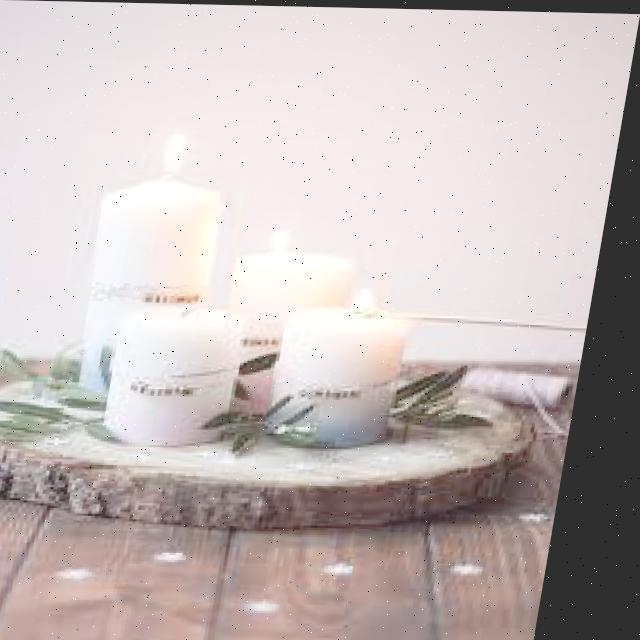Fire: (155, 126, 193, 178), (347, 279, 393, 312), (267, 224, 303, 255)
